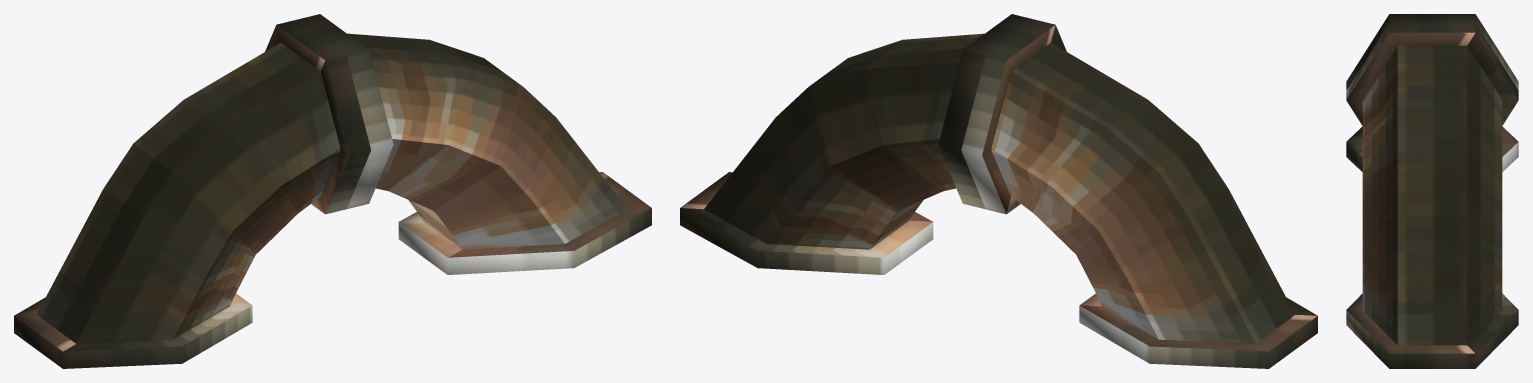
The model's file is pipes_c_1.fbx.
The picture shows the model from 3 angles, left to right: view 1: azimuth 30°, elevation 25°; view 2: azimuth 150°, elevation 25°; view 3: azimuth 270°, elevation 25°; orthographic projection. The views are drawn at different scales.
Parts seen in each view (by area): view 1: CurveSmallOpen.016; view 2: CurveSmallOpen.016; view 3: CurveSmallOpen.016.
Boxes of the visible parts, x1=… form: CurveSmallOpen.016: x1=14, y1=14, x2=651, y2=368; CurveSmallOpen.016: x1=680, y1=14, x2=1317, y2=368; CurveSmallOpen.016: x1=1346, y1=14, x2=1518, y2=368.
Bounding box in the file's own units: 214 × 84.75 × 61.63.
